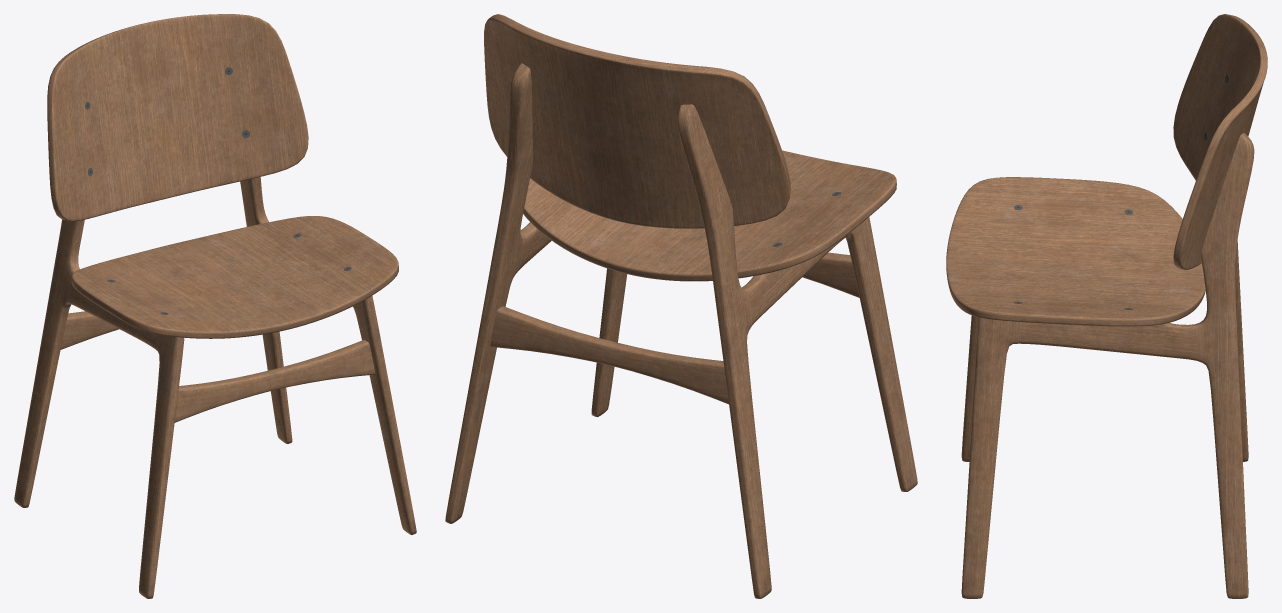
File: chair-002.glb
3 views of the same model, side by side, from view 1: azimuth 30°, elevation 25°; view 2: azimuth 150°, elevation 25°; view 3: azimuth 270°, elevation 25° (orthographic). The views are drawn at different scales.
Visible parts, largest first — view 1: relaxing, seating, legs, bottom1, bottom2; view 2: relaxing, legs, seating, bottom2, bottom1; view 3: seating, legs, relaxing.
Part boxes in pixels (x1,y1,x2,y2): relaxing: (47, 14, 308, 221); seating: (71, 216, 398, 338); legs: (14, 177, 416, 598); bottom1: (174, 340, 375, 422); bottom2: (60, 311, 118, 349); relaxing: (484, 14, 790, 228); legs: (445, 63, 917, 598); seating: (523, 150, 896, 281); bottom2: (490, 306, 728, 404); bottom1: (802, 252, 859, 297); seating: (946, 177, 1205, 326); legs: (961, 132, 1254, 598); relaxing: (1173, 14, 1267, 269).
Bounding box in the file's own units: 0.5121 × 0.8002 × 0.4956.
Materials: 3 (1 with a texture image).
